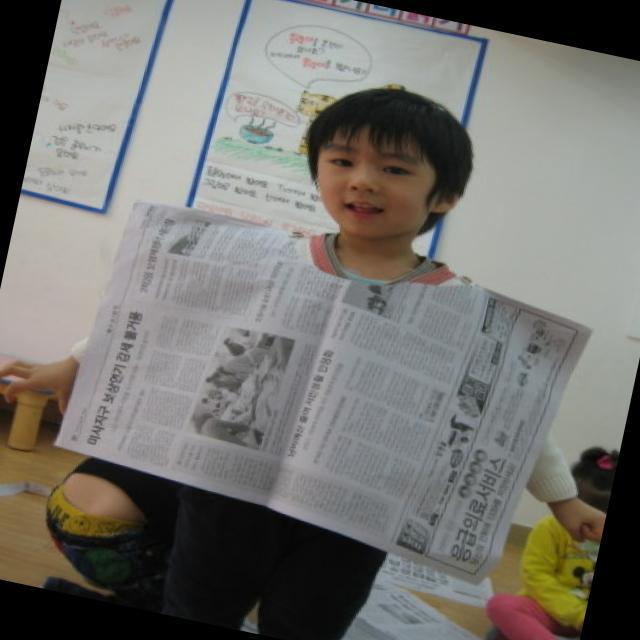reuseable_paper: (52, 193, 584, 607)
